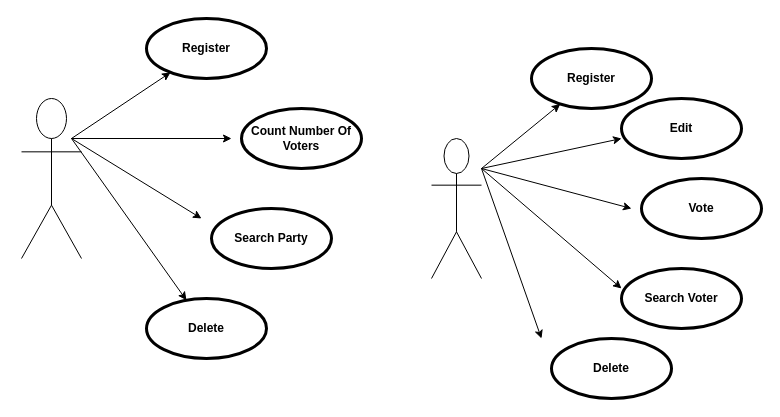
This 780x417 diagram has some shape labels left out. Here are the shapes that lost their labels. From the top down, the centre of each, then its label:
At (51,178): "PoliticalParty".
At (456,208): "Voter".
